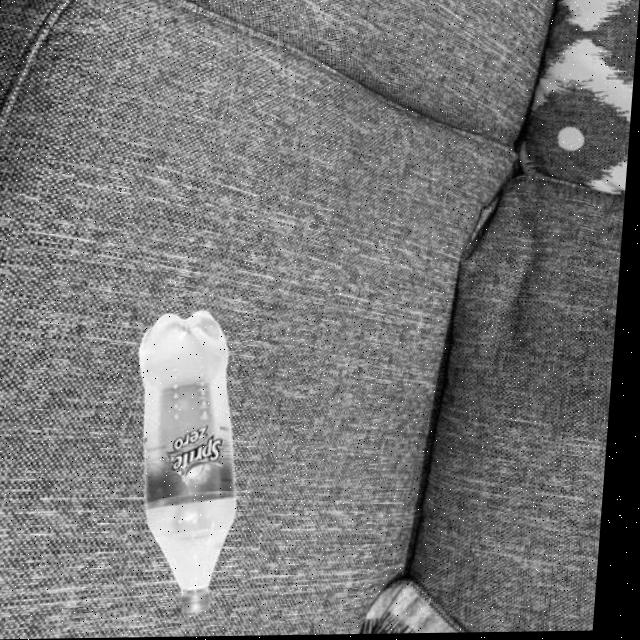bottle: (127, 308, 258, 617)
